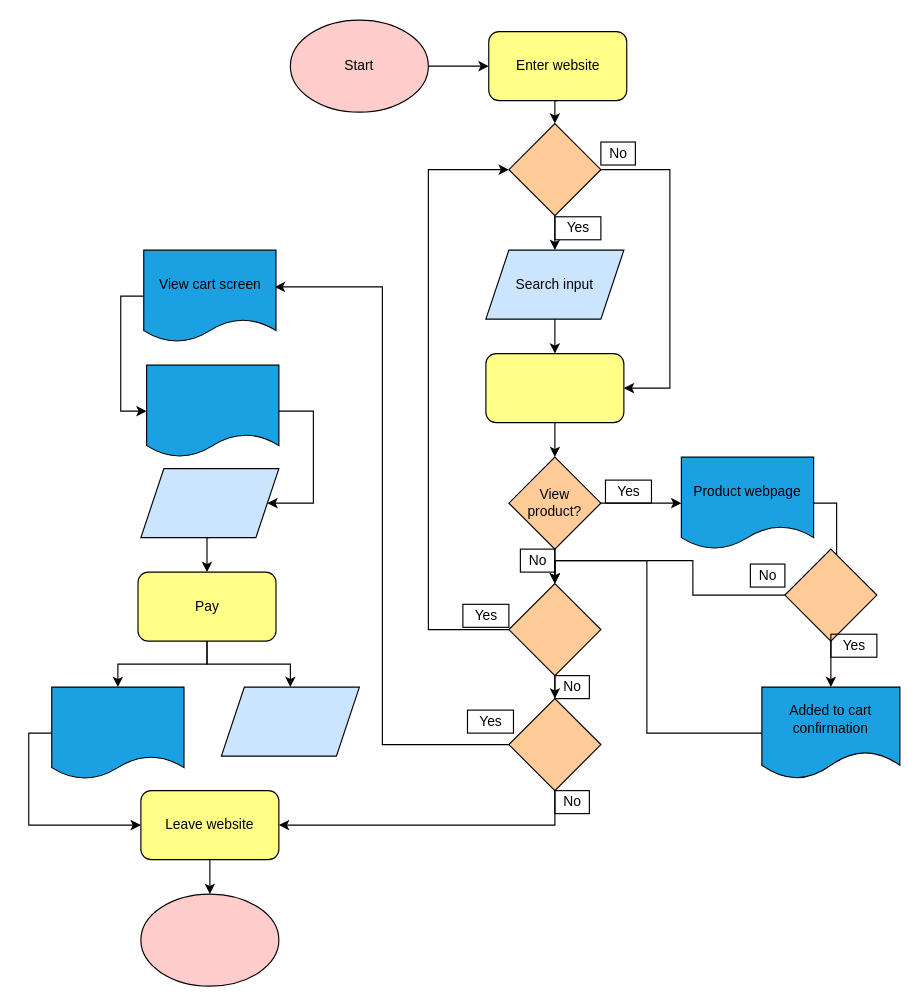
Some shapes in this 920 by 1006 pixel diagram are drawn without their labels. The box of each missing label's shape, as (x1, y1, x2, y2) in pixels:
Add item to cart?: (784, 548, 877, 641)
Checkout?: (508, 697, 601, 791)
Continue shopping?: (508, 582, 601, 676)
Email: (220, 686, 359, 756)
End: (140, 893, 279, 986)
Look over products: (485, 352, 624, 423)
Order confirmation screen: (51, 686, 184, 779)
Payment info: (140, 467, 279, 538)
Search?: (508, 122, 601, 216)
View payment screen: (145, 364, 279, 457)
